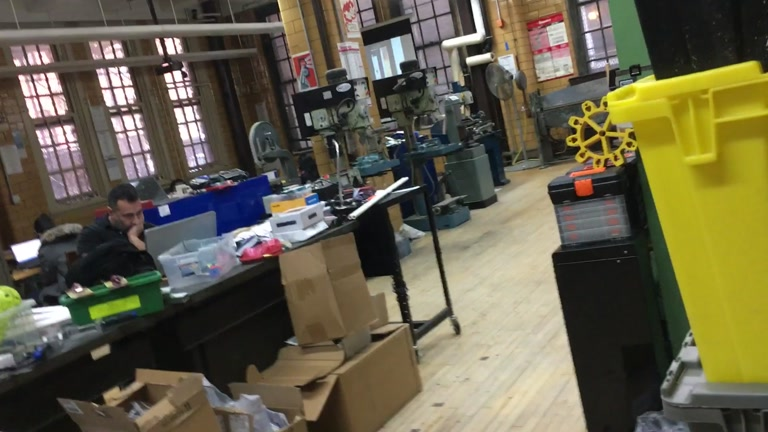gear: (566, 95, 642, 172)
